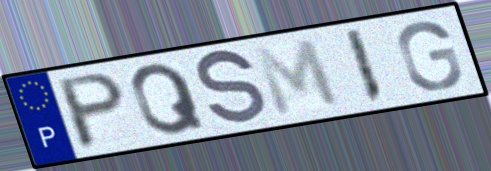G: (394, 19, 464, 92)
I: (341, 26, 388, 107)
M: (249, 36, 345, 119)
P: (55, 70, 128, 153)
Q: (129, 60, 210, 138)
S: (194, 46, 269, 130)
